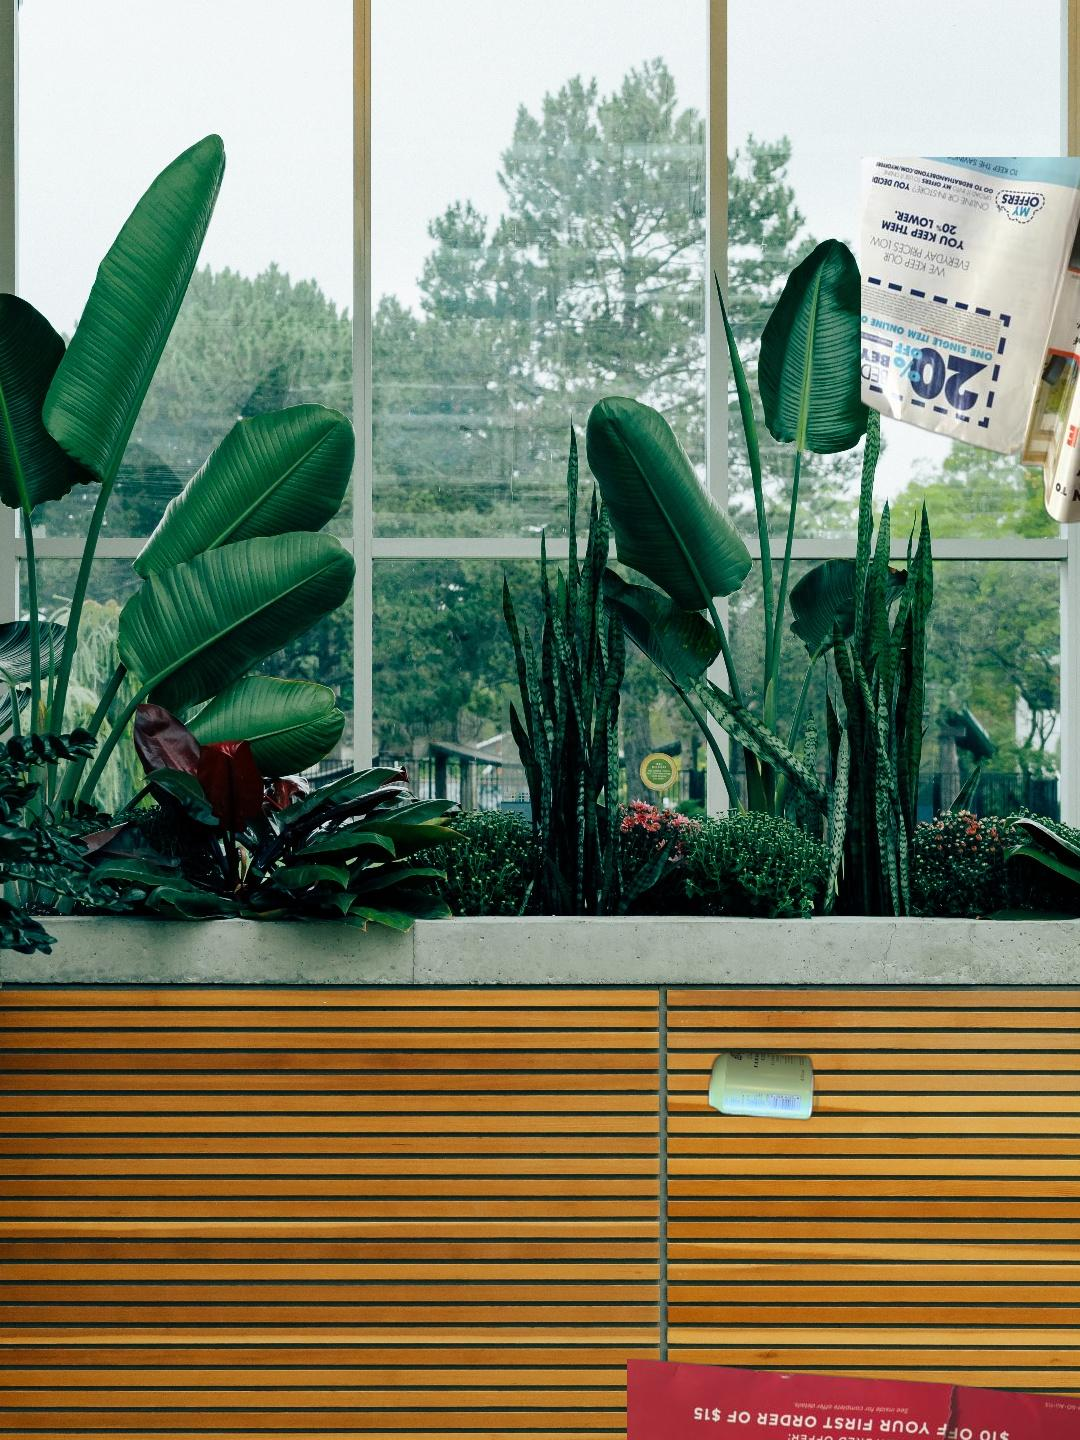metal-cans: (703, 1046, 823, 1126)
paper: (861, 157, 1080, 527), (627, 1359, 1080, 1440)
